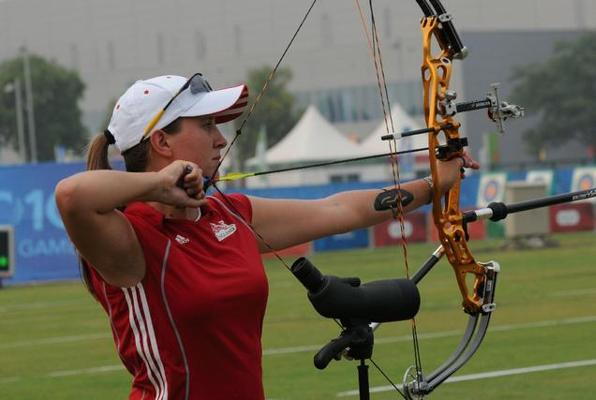person: (53, 71, 487, 397)
